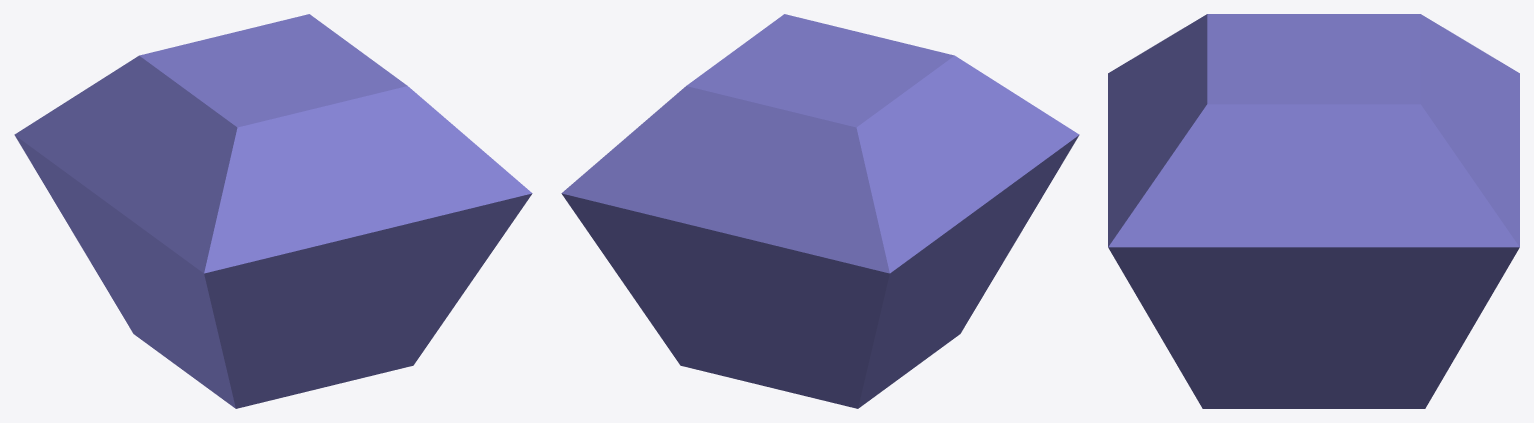
The model's file is ChargePickup.fbx.
3 views of the same model, side by side, from view 1: azimuth 30°, elevation 25°; view 2: azimuth 150°, elevation 25°; view 3: azimuth 270°, elevation 25° (orthographic). The views are drawn at different scales.
Visible parts, largest first — view 1: Cube; view 2: Cube; view 3: Cube.
Part boxes in pixels (x1=…): Cube: x1=14, y1=14, x2=532, y2=408; Cube: x1=561, y1=14, x2=1079, y2=408; Cube: x1=1108, y1=14, x2=1519, y2=408.
Bounding box in the file's own units: 370 × 300 × 370.
